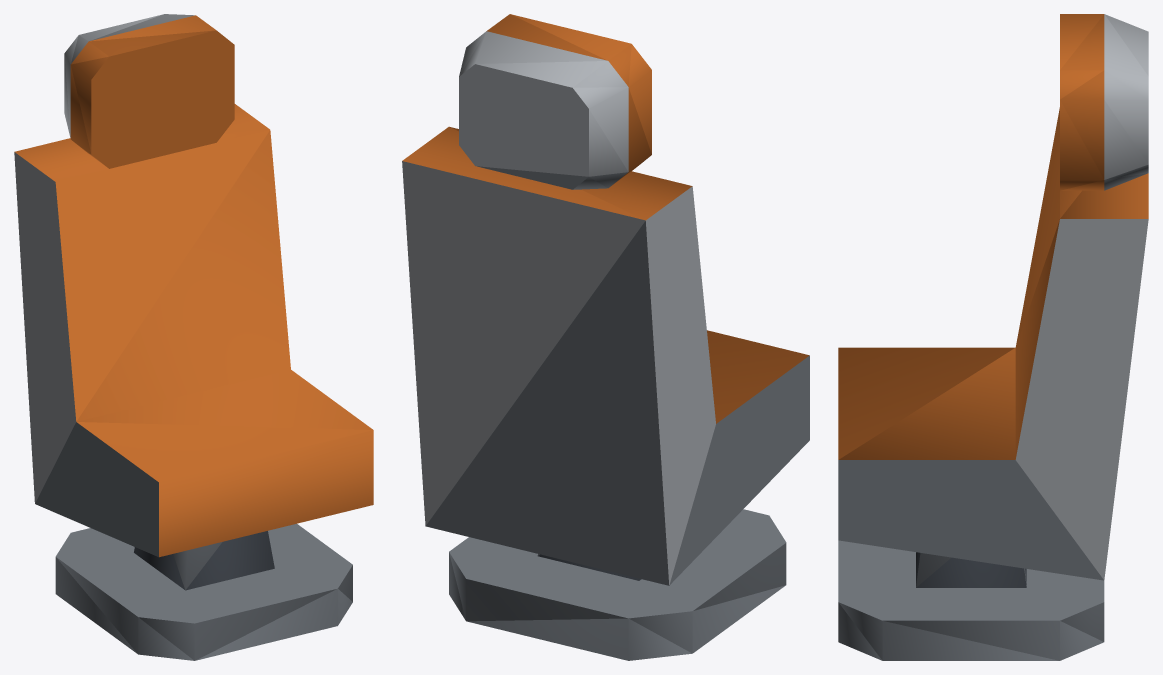
File: Kit_chair-headrest.fbx
The picture shows the model from 3 angles, left to right: view 1: azimuth 30°, elevation 25°; view 2: azimuth 150°, elevation 25°; view 3: azimuth 270°, elevation 25°; orthographic projection. The views are drawn at different scales.
Visible parts, largest first — view 1: Kit_chair-headrest; view 2: Kit_chair-headrest; view 3: Kit_chair-headrest.
Part boxes in pixels (x1,y1,x2,y2): Kit_chair-headrest: (14, 14, 373, 660); Kit_chair-headrest: (402, 14, 809, 660); Kit_chair-headrest: (838, 14, 1148, 660).
Bounding box in the file's own units: 0.3 × 0.7 × 0.35.
